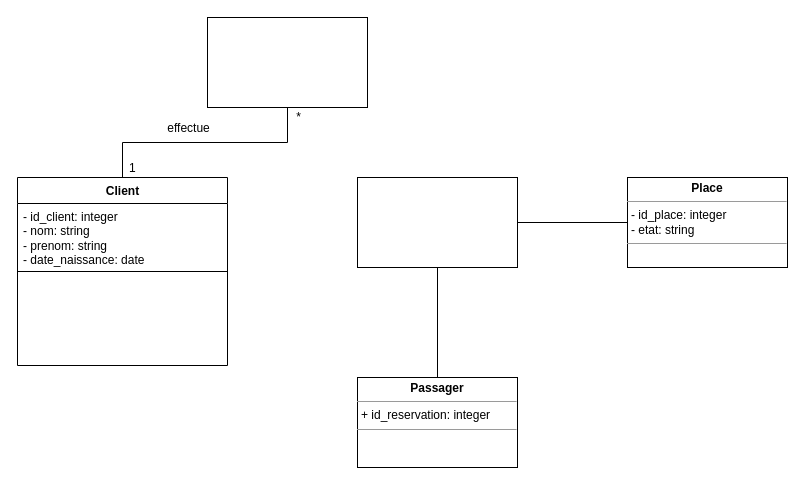
Some shapes in this 805 by 485 pixel diagram are drawn without their labels. The shapes that lost their labels are listed below. From the top down, each one's centre as x and y in pixels, then its label:
At point 287,62: "Reservation - id_reservation: integer + method(): Type".
At point 437,222: "Billet - id_billet: integer - prix: float + method(): Type".
